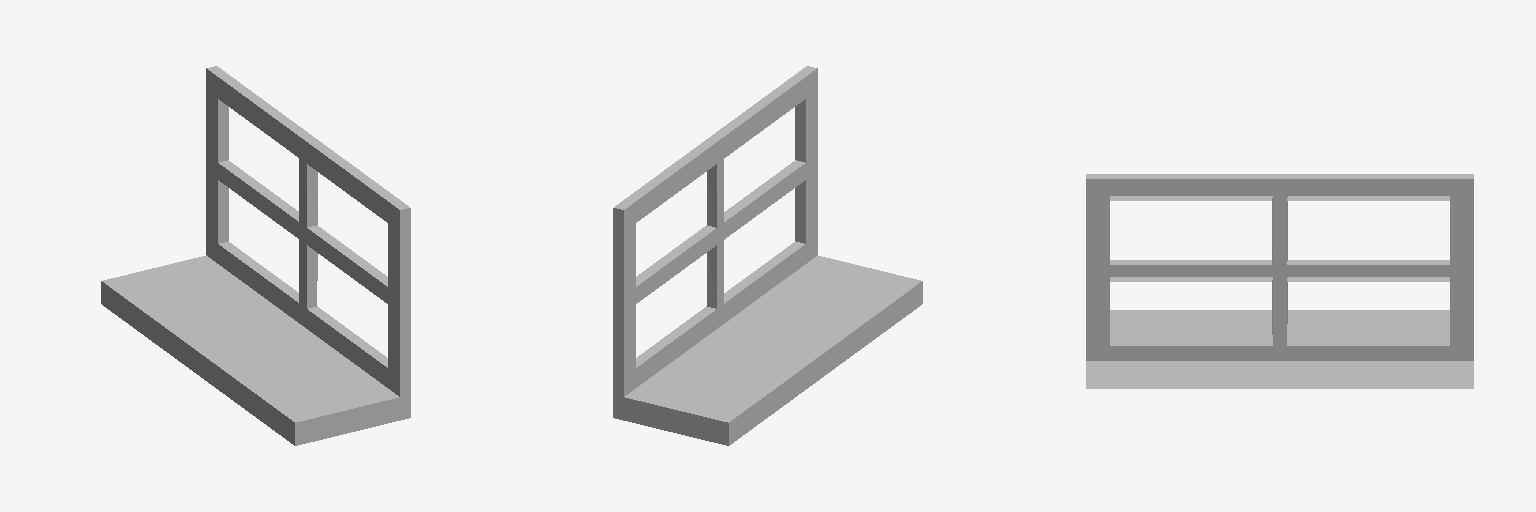
File: Ventana.obj
The picture shows the model from 3 angles: view 1: azimuth 30°, elevation 25°; view 2: azimuth 150°, elevation 25°; view 3: azimuth 270°, elevation 25°; orthographic projection.
Visible parts, largest first — view 1: Cube; view 2: Cube; view 3: Cube.
Part boxes in pixels (bbox=[...]): Cube: bbox=[101, 66, 410, 445]; Cube: bbox=[613, 66, 922, 445]; Cube: bbox=[1086, 174, 1473, 388].
Bounding box in the file's own units: 1.03 × 1.8 × 3.